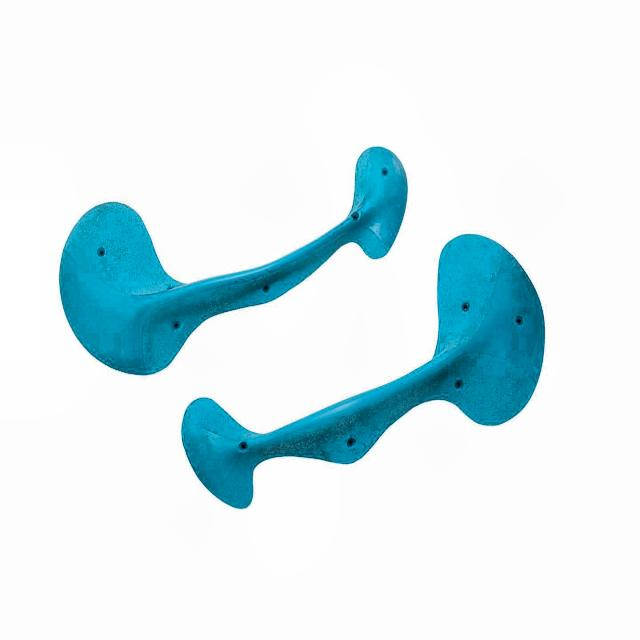Hold: (157, 213, 567, 538), (38, 103, 431, 399)
